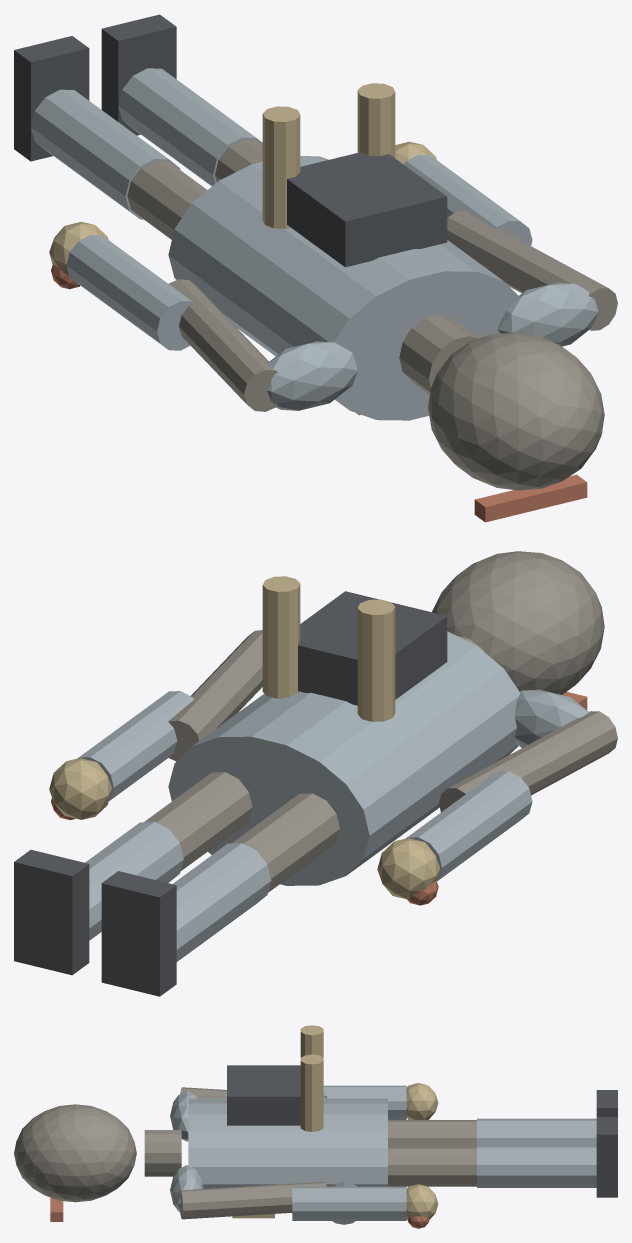
Rendered from SWN-006_brix_thorn.glb.
3 renders of one model, top to bottom at view 1: azimuth 30°, elevation 25°; view 2: azimuth 150°, elevation 25°; view 3: azimuth 270°, elevation 25°, orthographic. The views are drawn at different scales.
Visible parts, largest first — view 1: body_spine, head, back_thruster_pack, greave_-1, greave_1, forearm_gauntlet_-1, upper_arm_1, upper_arm_-1, boot_-1, boot_1, shoulder_plate_-1, shoulder_plate_1 (+8 smaller); view 2: body_spine, head, back_thruster_pack, boot_-1, boot_1, greave_-1, forearm_gauntlet_-1, upper_arm_-1, thigh_-1, thigh_1, upper_arm_1, forearm_gauntlet_1 (+6 smaller); view 3: body_spine, head, greave_1, back_thruster_pack, forearm_gauntlet_1, thigh_1, upper_arm_1, greave_-1, thigh_-1, aether_thruster_1, boot_1, neck (+9 smaller).
Part boxes in pixels (left/top/right/bottom): body_spine: left=168, top=156, right=519, bottom=420; head: left=428, top=332, right=604, bottom=490; back_thruster_pack: left=287, top=152, right=447, bottom=267; greave_-1: left=31, top=89, right=180, bottom=219; greave_1: left=118, top=68, right=262, bottom=186; forearm_gauntlet_-1: left=66, top=235, right=193, bottom=350; upper_arm_1: left=447, top=211, right=617, bottom=330; upper_arm_-1: left=168, top=279, right=277, bottom=411; boot_-1: left=14, top=36, right=89, bottom=161; boot_1: left=101, top=14, right=176, bottom=135; shoulder_plate_-1: left=267, top=341, right=357, bottom=410; shoulder_plate_1: left=497, top=282, right=598, bottom=346; body_spine: left=168, top=631, right=519, bottom=885; head: left=432, top=551, right=604, bottom=694; back_thruster_pack: left=298, top=591, right=447, bottom=705; boot_-1: left=101, top=871, right=176, bottom=996; boot_1: left=14, top=849, right=89, bottom=975; greave_-1: left=172, top=843, right=271, bottom=961; forearm_gauntlet_-1: left=406, top=771, right=532, bottom=881; upper_arm_-1: left=439, top=711, right=617, bottom=812; thigh_-1: left=231, top=793, right=339, bottom=892; thigh_1: left=144, top=772, right=252, bottom=870; upper_arm_1: left=168, top=630, right=262, bottom=761; forearm_gauntlet_1: left=77, top=691, right=193, bottom=800; body_spine: left=188, top=1098, right=387, bottom=1188; head: left=14, top=1104, right=136, bottom=1202; greave_1: left=477, top=1145, right=596, bottom=1187; back_thruster_pack: left=227, top=1065, right=300, bottom=1125; forearm_gauntlet_1: left=292, top=1186, right=406, bottom=1220; thigh_1: left=388, top=1147, right=476, bottom=1186; upper_arm_1: left=180, top=1181, right=326, bottom=1219; greave_-1: left=477, top=1118, right=596, bottom=1145; thigh_-1: left=388, top=1120, right=476, bottom=1146; aether_thruster_1: left=300, top=1054, right=323, bottom=1131; boot_1: left=596, top=1117, right=617, bottom=1197; neck: left=144, top=1130, right=181, bottom=1176.
Bounding box in the file's own units: 1.05 × 0.6775 × 2.27.
